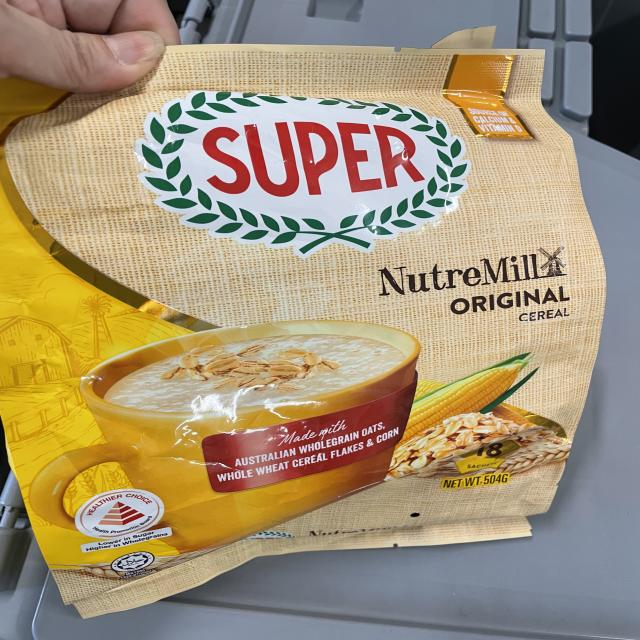object_name: (13, 70, 569, 594)
